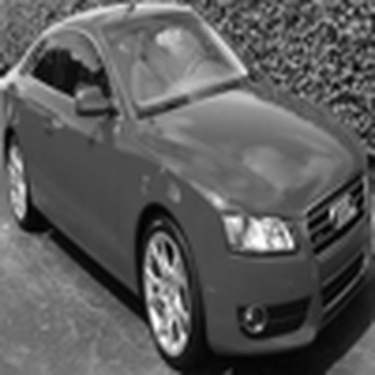car: (1, 1, 372, 371)
